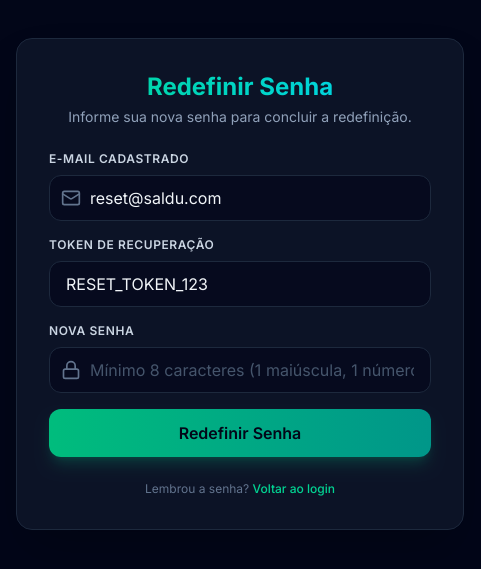
Test: ForgotPasswordPage Component › prevents submission in reset mode if token is empty
The width and height of the screenshot is (481, 569).
Expected: the heading "Redefinir Senha" is shown, [49, 71, 431, 103]
Clear the field with test id "token" at (240, 284), box [49, 261, 431, 307]
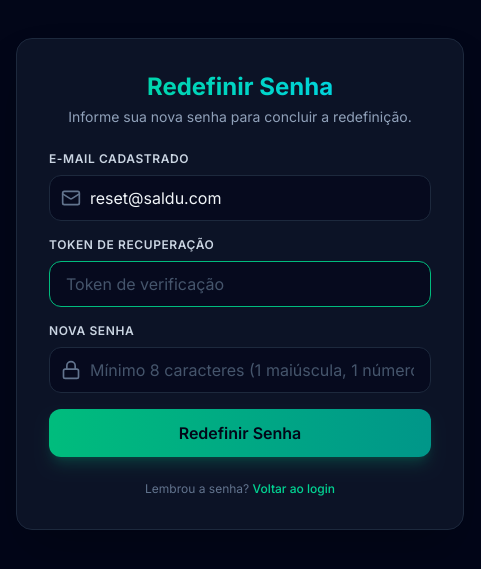
Click the button with test id "btnSubmit" at (240, 433), box [49, 409, 431, 457]
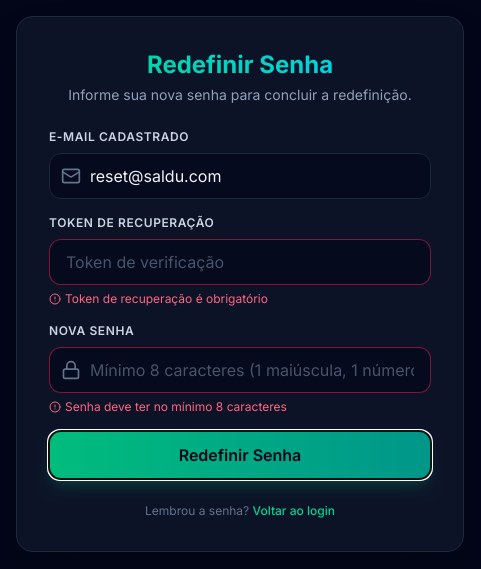
Expected: the text "Token de recuperação é obrigatório" is shown, [49, 291, 268, 306]
